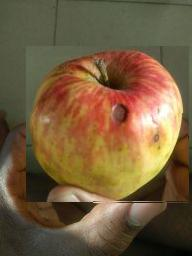Apple Semirotten: (26, 47, 189, 204)
